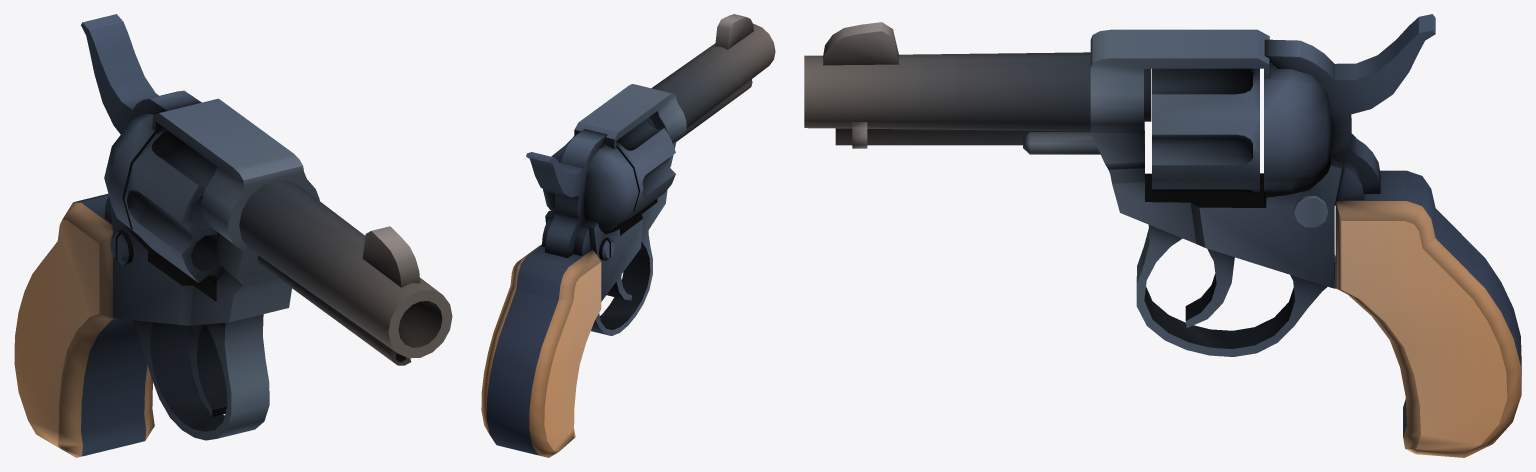
File: FireArms_Revolver.gltf
3 renders of one model, left to right at view 1: azimuth 30°, elevation 25°; view 2: azimuth 150°, elevation 25°; view 3: azimuth 270°, elevation 25°, orthographic. The views are drawn at different scales.
Visible parts, largest first — view 1: FireArms_Revolver; view 2: FireArms_Revolver; view 3: FireArms_Revolver.
Boxes of the visible parts, x1,y1,x2,y2 form: FireArms_Revolver: (14,14,452,457); FireArms_Revolver: (481,14,775,457); FireArms_Revolver: (804,14,1521,457).
Size of the model in its own units: 0.136 by 0.433 by 0.6694.
Materials: 2 (2 with a texture image).
